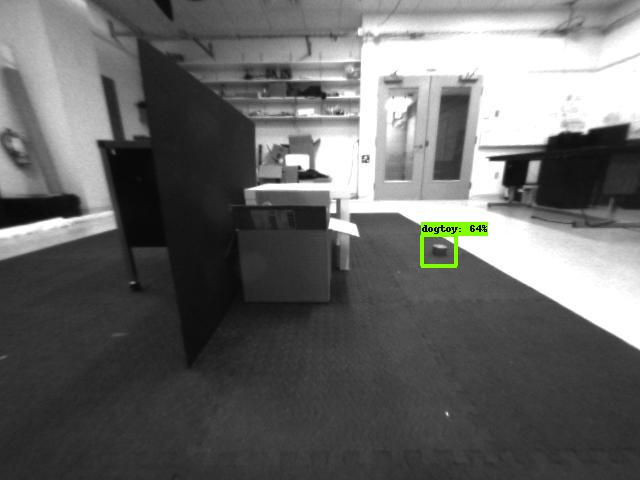dogtoy: (422, 236, 458, 266)
